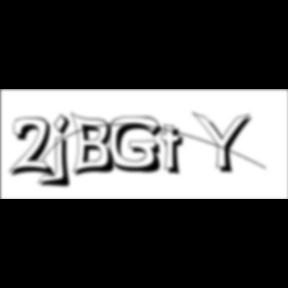2: (9, 117, 59, 181)
B: (71, 111, 121, 179)
G: (110, 116, 168, 176)
Y: (192, 110, 258, 176)
j: (50, 113, 78, 191)
t: (161, 124, 192, 179)
